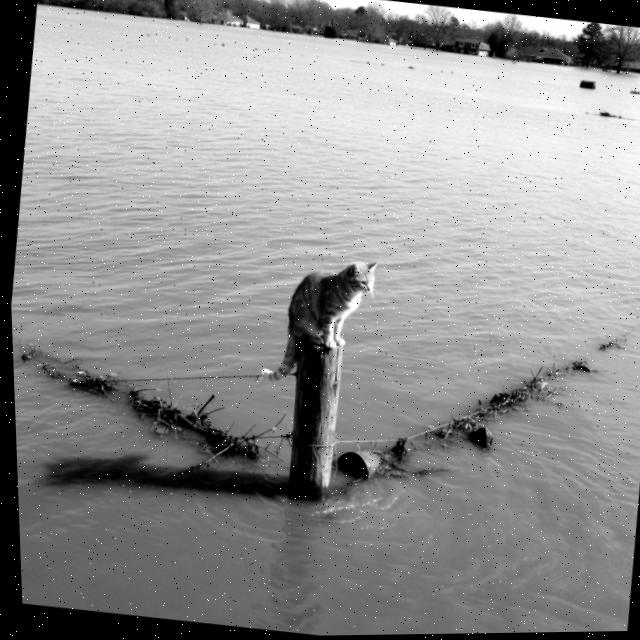cat: (249, 244, 392, 404)
